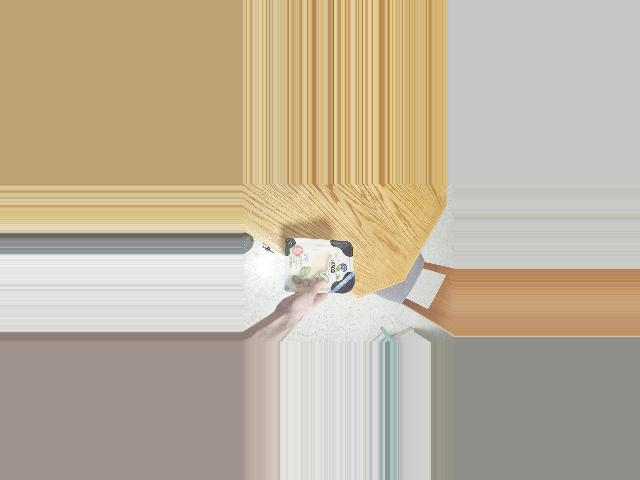cheese: (268, 238, 370, 295)
